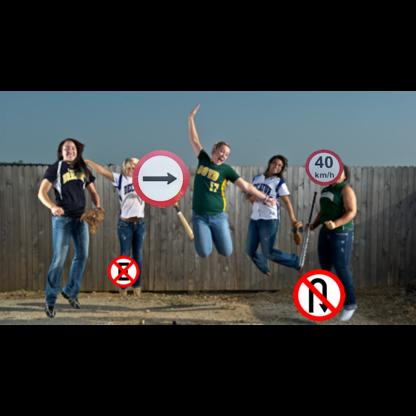R-19: (305, 149, 343, 186)
R-24a: (132, 150, 190, 207)
R-6c: (108, 256, 139, 288)
